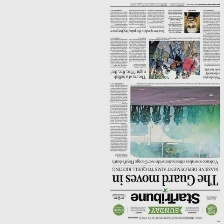news_paper: (108, 0, 222, 222)
